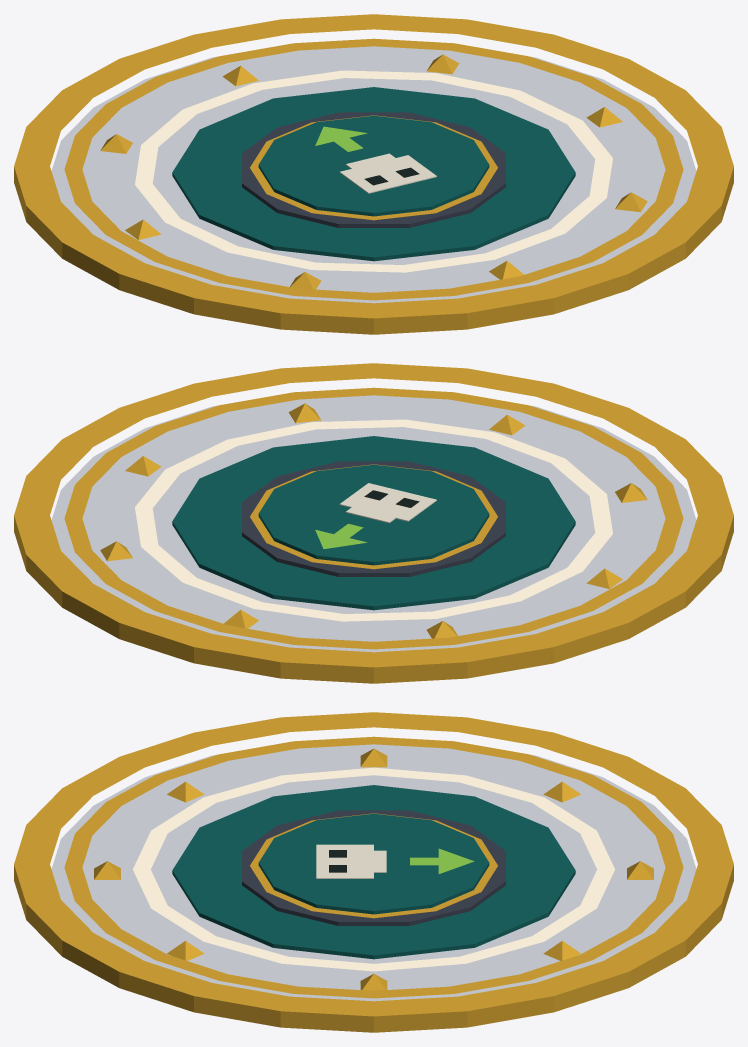
The model's file is weakener_legend_area.glb.
The picture shows the model from 3 angles, top to bottom: view 1: azimuth 30°, elevation 25°; view 2: azimuth 150°, elevation 25°; view 3: azimuth 270°, elevation 25°; orthographic projection.
Parts seen in each view (by area): view 1: weakener_legend_area; view 2: weakener_legend_area; view 3: weakener_legend_area.
Boxes of the visible parts, x1=… form: weakener_legend_area: x1=14, y1=14, x2=733, y2=334; weakener_legend_area: x1=14, y1=363, x2=733, y2=683; weakener_legend_area: x1=14, y1=712, x2=733, y2=1032.
Size of the model in its own units: 2 by 0.06 by 2.
2 materials, 2 textured.
